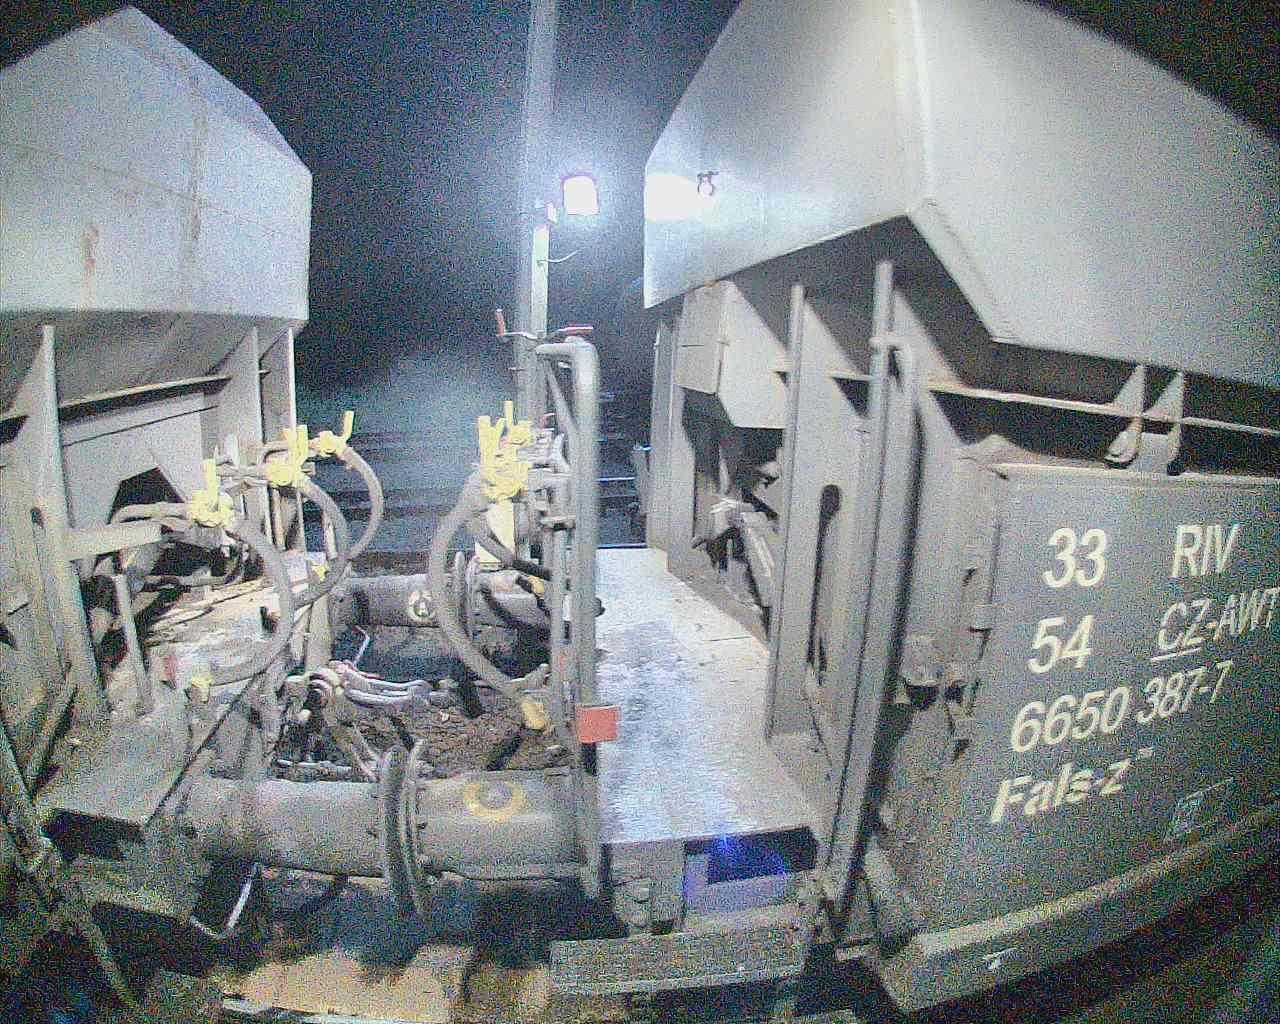UIC: (984, 525, 1280, 825)
